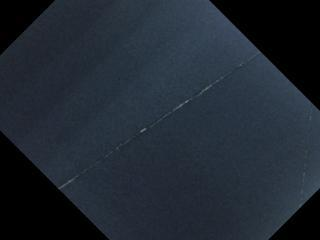crack: (55, 53, 264, 189), (292, 97, 320, 207)
